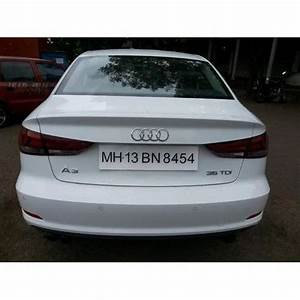number_plate: (98, 142, 200, 172)
